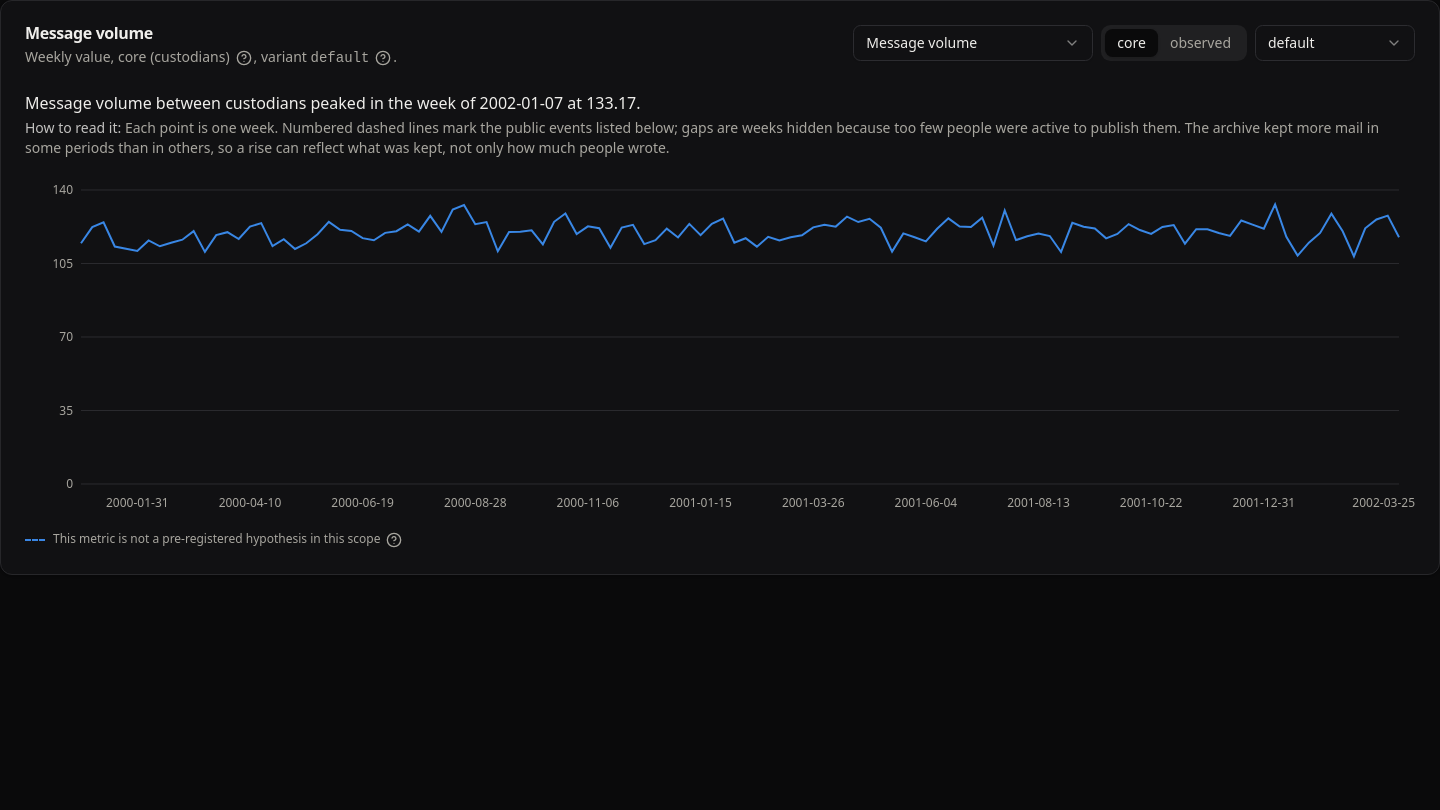
Test: MetricChart › switches the scope between core and observed from its tabs
What coordinates should you click on to do the following:
click the tab "observed"
I would click on:
 (1200, 43)
Its box is top-left (1158, 29), bottom-right (1243, 57).
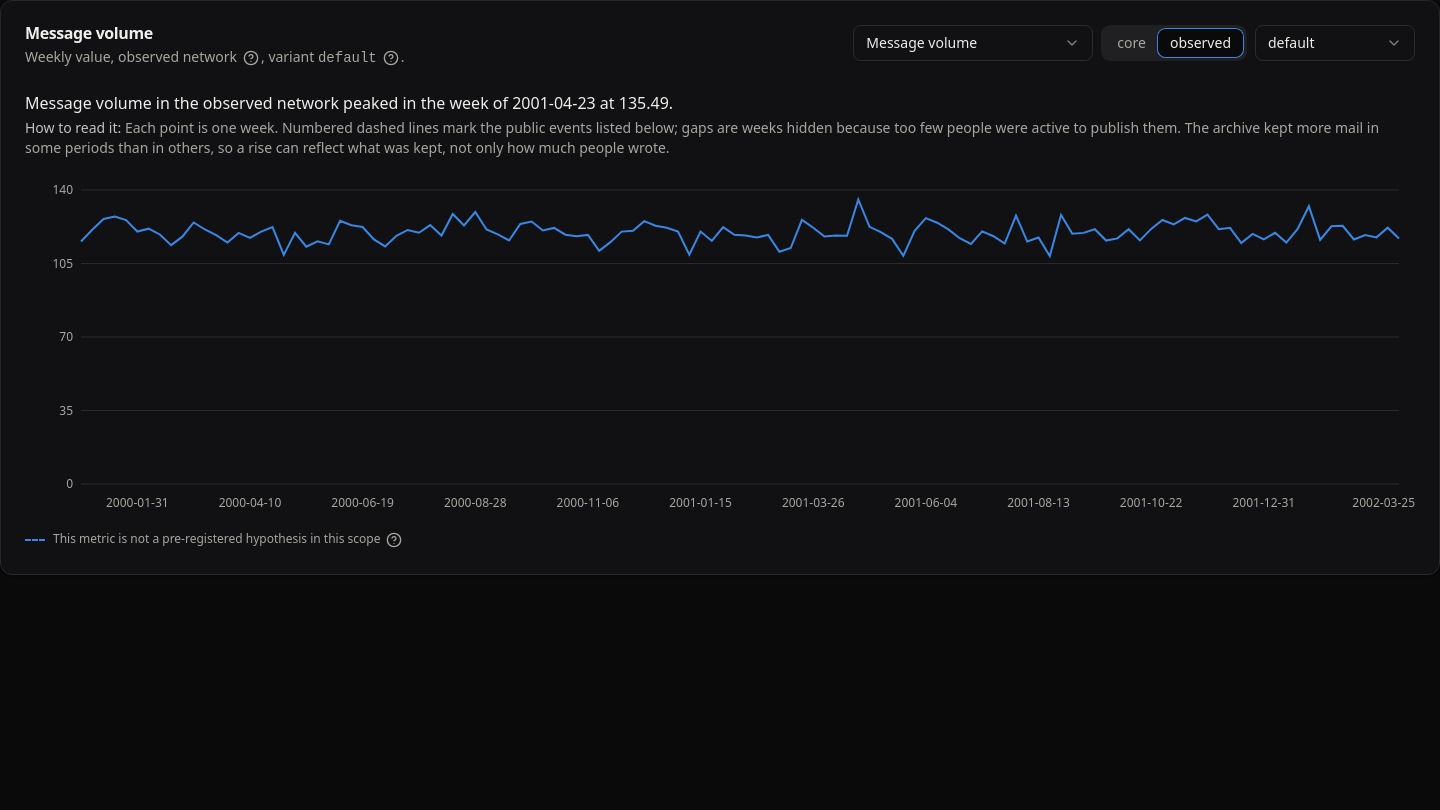
Check: the text "Weekly value, observed network , variant default ." is shown, box top-left (25, 47), bottom-right (404, 68)
What coordinates should you click on to do the following:
click the tab "core"
I would click on:
 (1132, 43)
Its box is top-left (1105, 29), bottom-right (1158, 57).
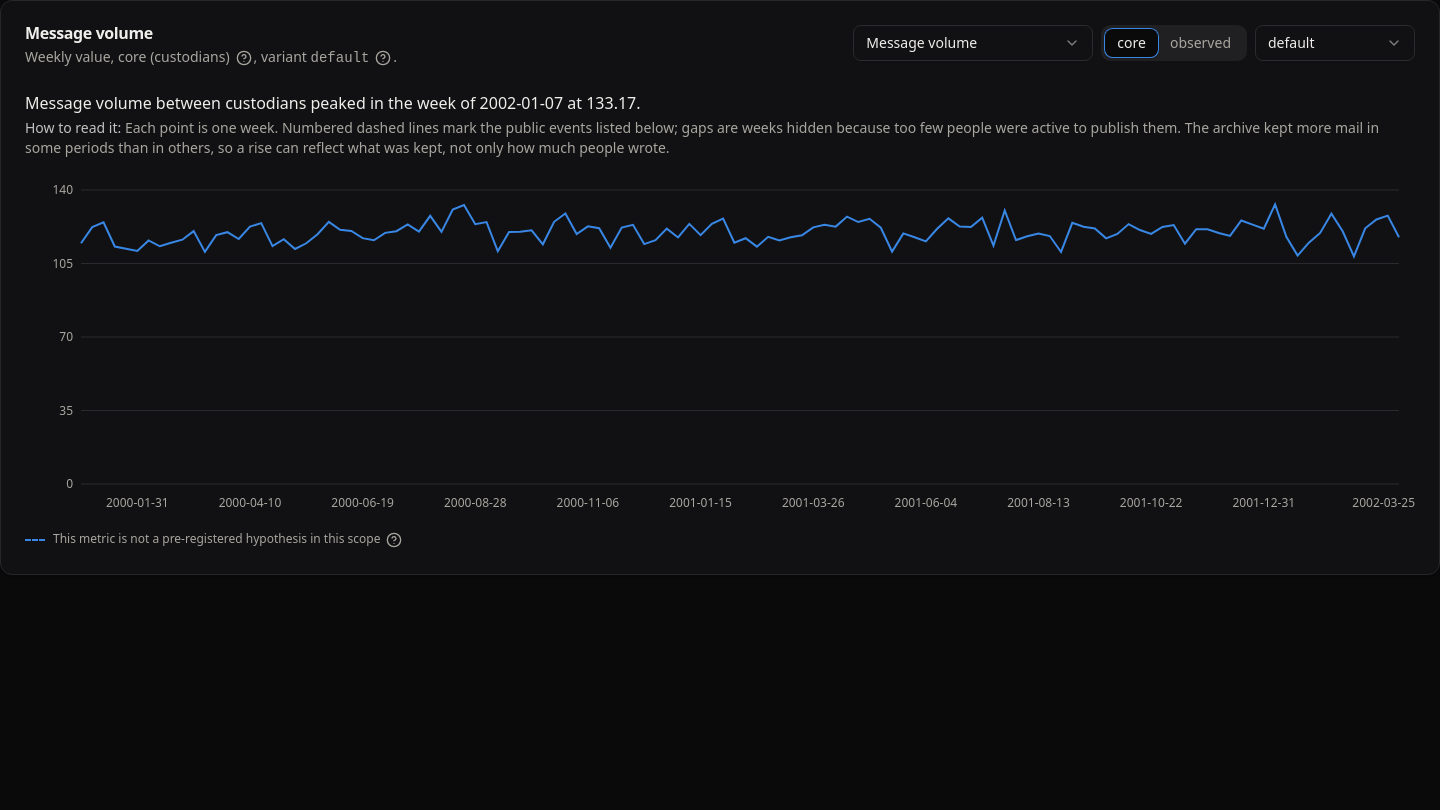
Check: the text "Weekly value, core (custodians) , variant default ." is shown, box top-left (25, 47), bottom-right (397, 68)
